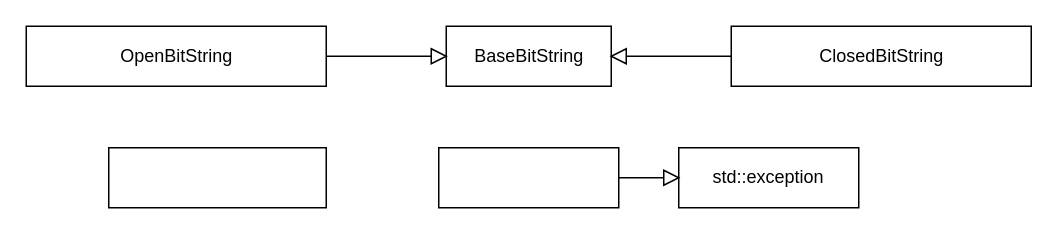
Image size: 1058x234. Some labels were removed from this diagram. Each missing label, with the centre of its shape:
BaseBitStringException: pixel 216 177
Exception: pixel 528 177
